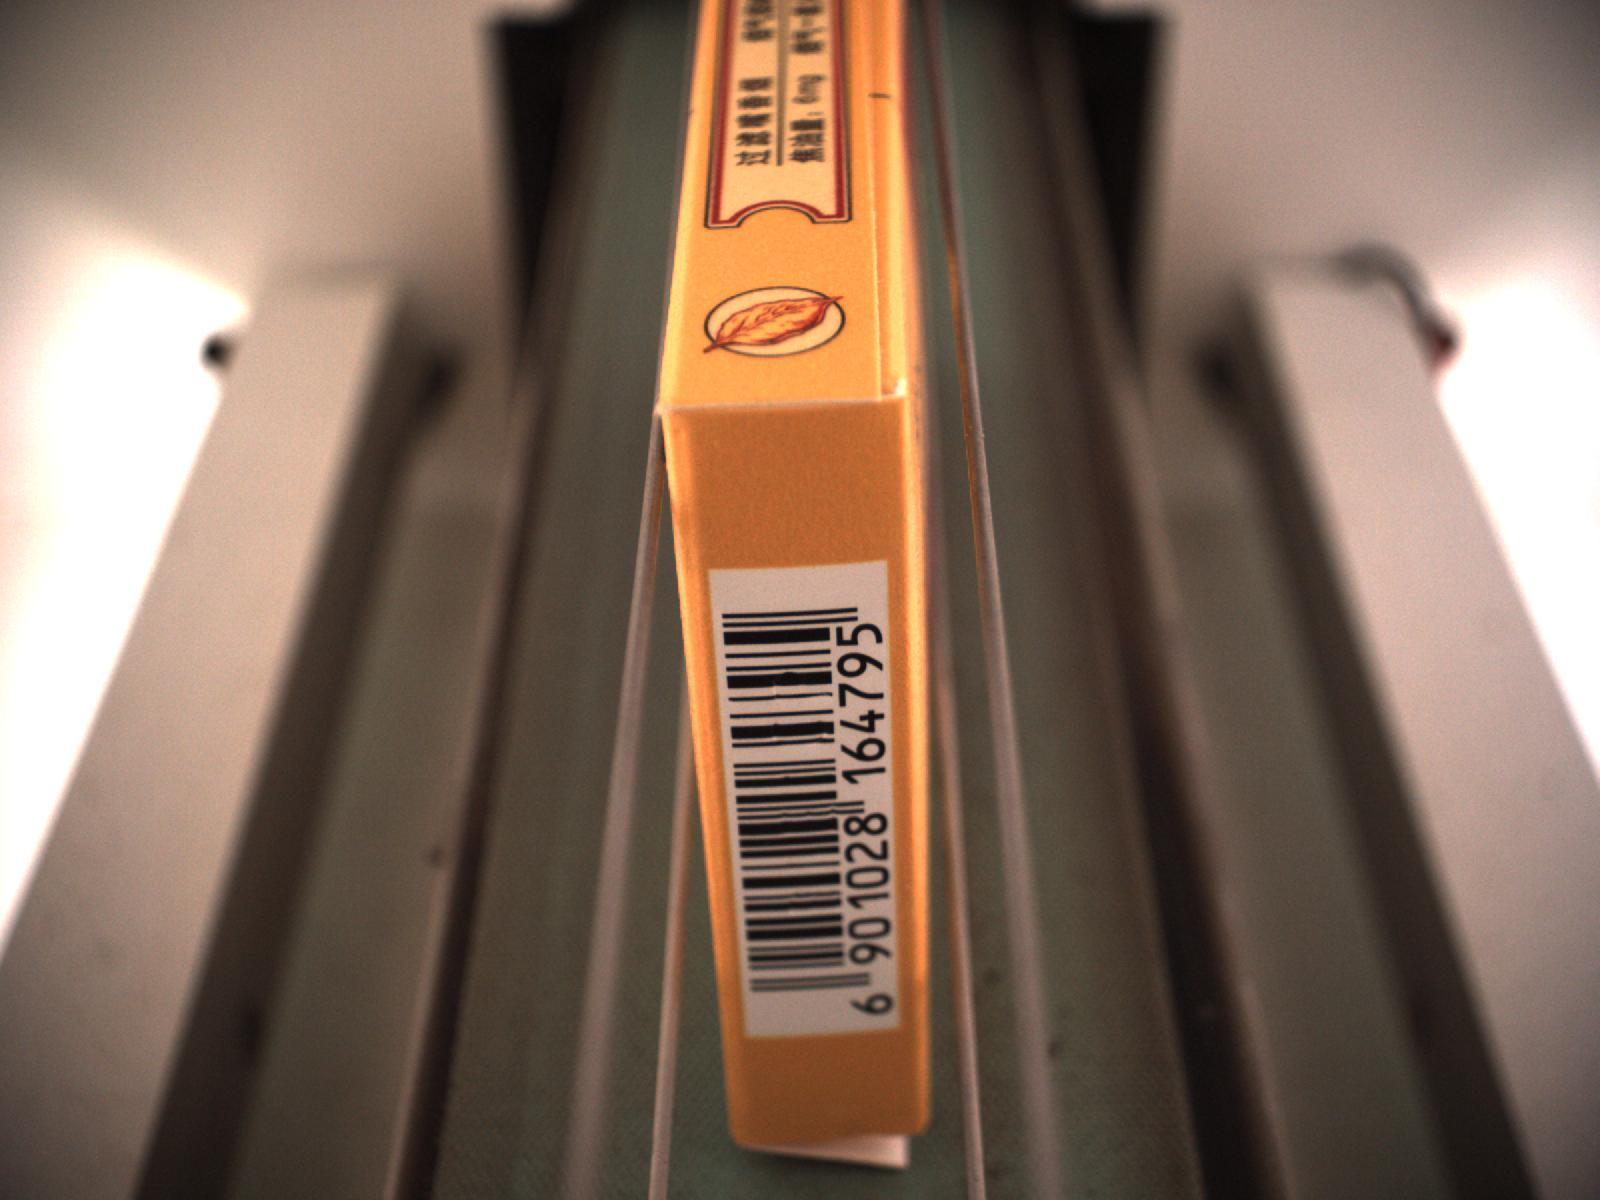skewed_bottom_3: (734, 1121, 930, 1174)
skewed_upper_3: (852, 0, 917, 410)
